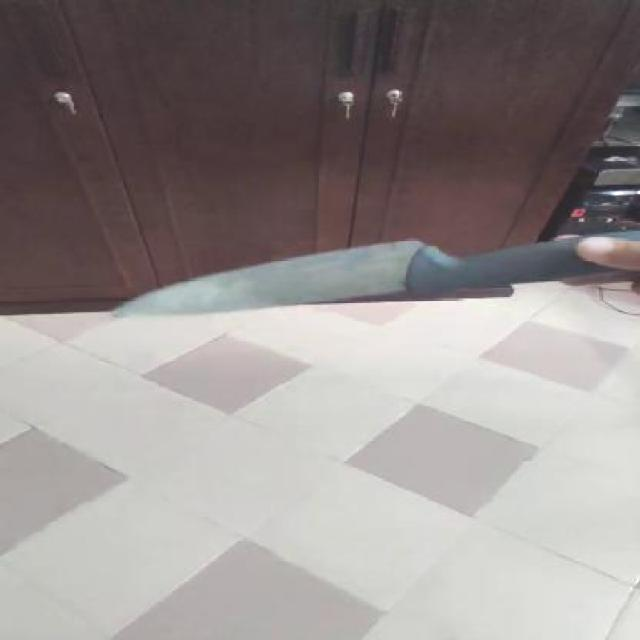knife: (77, 220, 455, 358)
